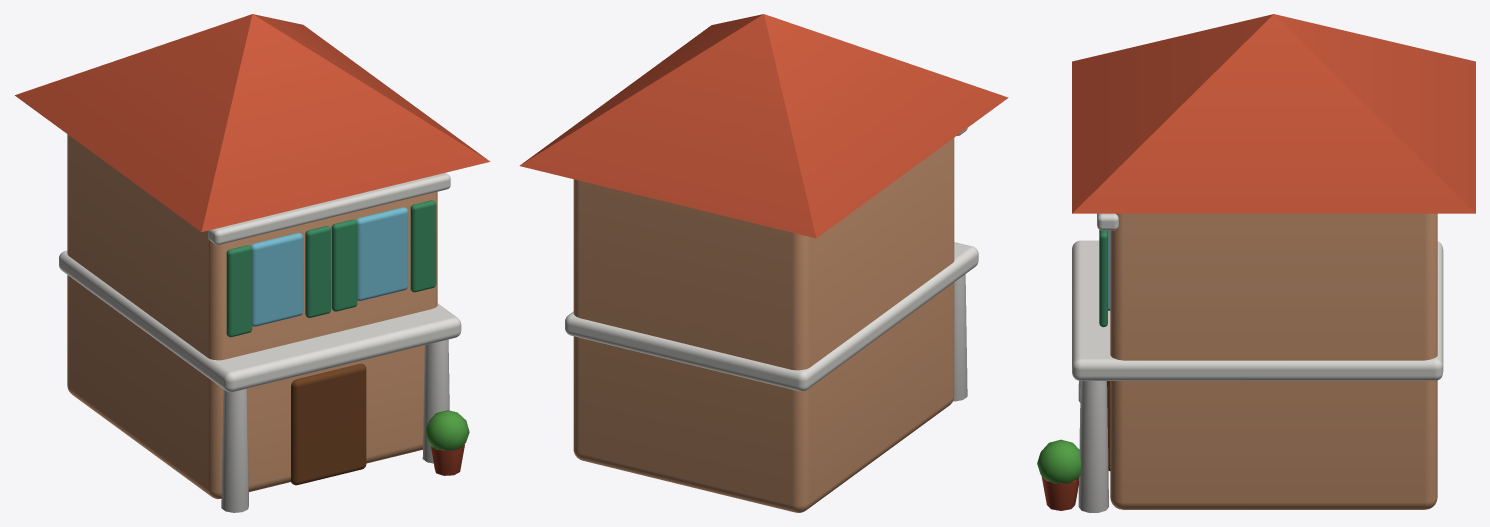
The model's file is shophouse_peach.glb.
3 views of the same model, side by side, from view 1: azimuth 30°, elevation 25°; view 2: azimuth 150°, elevation 25°; view 3: azimuth 270°, elevation 25° (orthographic). The views are drawn at different scales.
Parts seen in each view (by area): view 1: shophouse; view 2: shophouse; view 3: shophouse.
Part boxes in pixels (x1=…): shophouse: x1=15, y1=14, x2=490, y2=512; shophouse: x1=519, y1=14, x2=1008, y2=512; shophouse: x1=1037, y1=14, x2=1475, y2=512.
Bounding box in the file's own units: 3.3 × 4.45 × 4.02.
